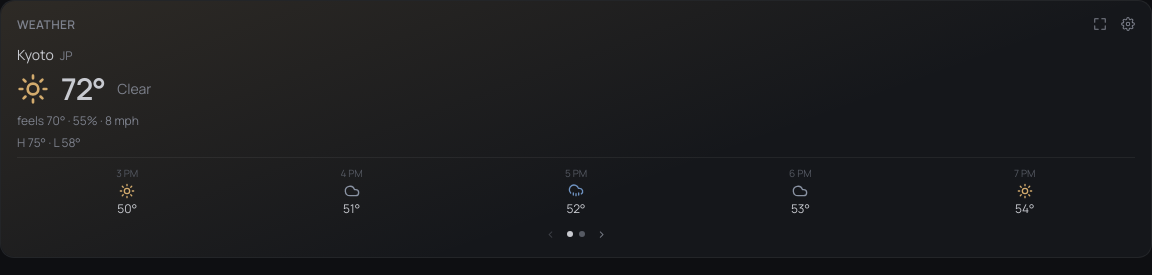
WeatherCard › tints the card with the condition currently on screen
The image size is (1152, 275).
Expected: the text "72°" is shown, 61,71 -> 105,107
Click the button named "Next location" at (601, 234), box 593,227 -> 610,241
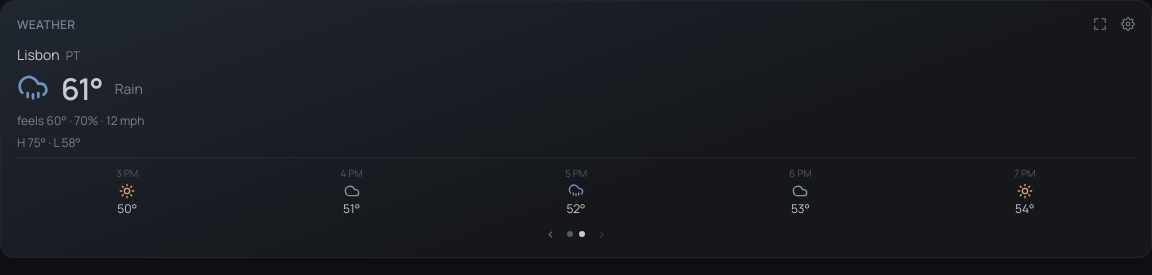
Now the text "61°" is shown, box 61,71 -> 103,107
